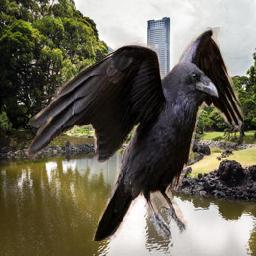Crow: (26, 27, 245, 241)
